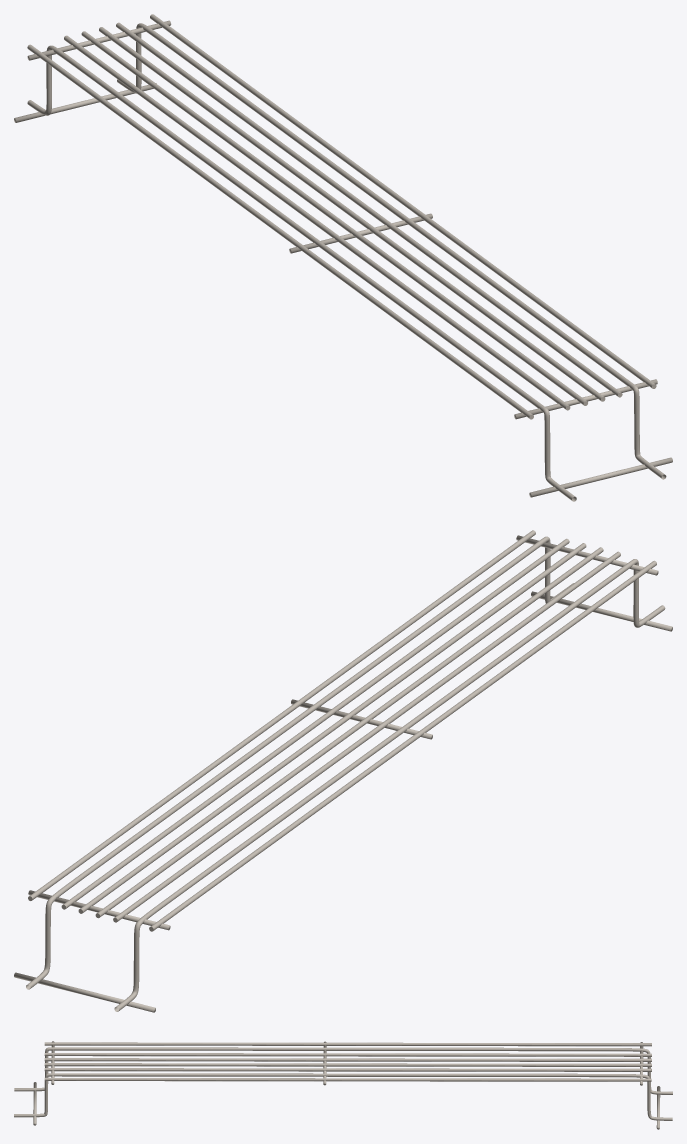
3 renders of one model, top to bottom at view 1: azimuth 30°, elevation 25°; view 2: azimuth 150°, elevation 25°; view 3: azimuth 270°, elevation 25°, orthographic. The views are drawn at different scales.
Visible parts, largest first — view 1: NurbsPath.003; view 2: NurbsPath.003; view 3: NurbsPath.003.
Boxes of the visible parts, <box> form: NurbsPath.003: <box>14,14,672,501</box>; NurbsPath.003: <box>14,530,672,1012</box>; NurbsPath.003: <box>14,1041,672,1129</box>.
Bounding box in the file's own units: 9.76 × 5.24 × 64.39.
Materials: 1 (1 with a texture image).
